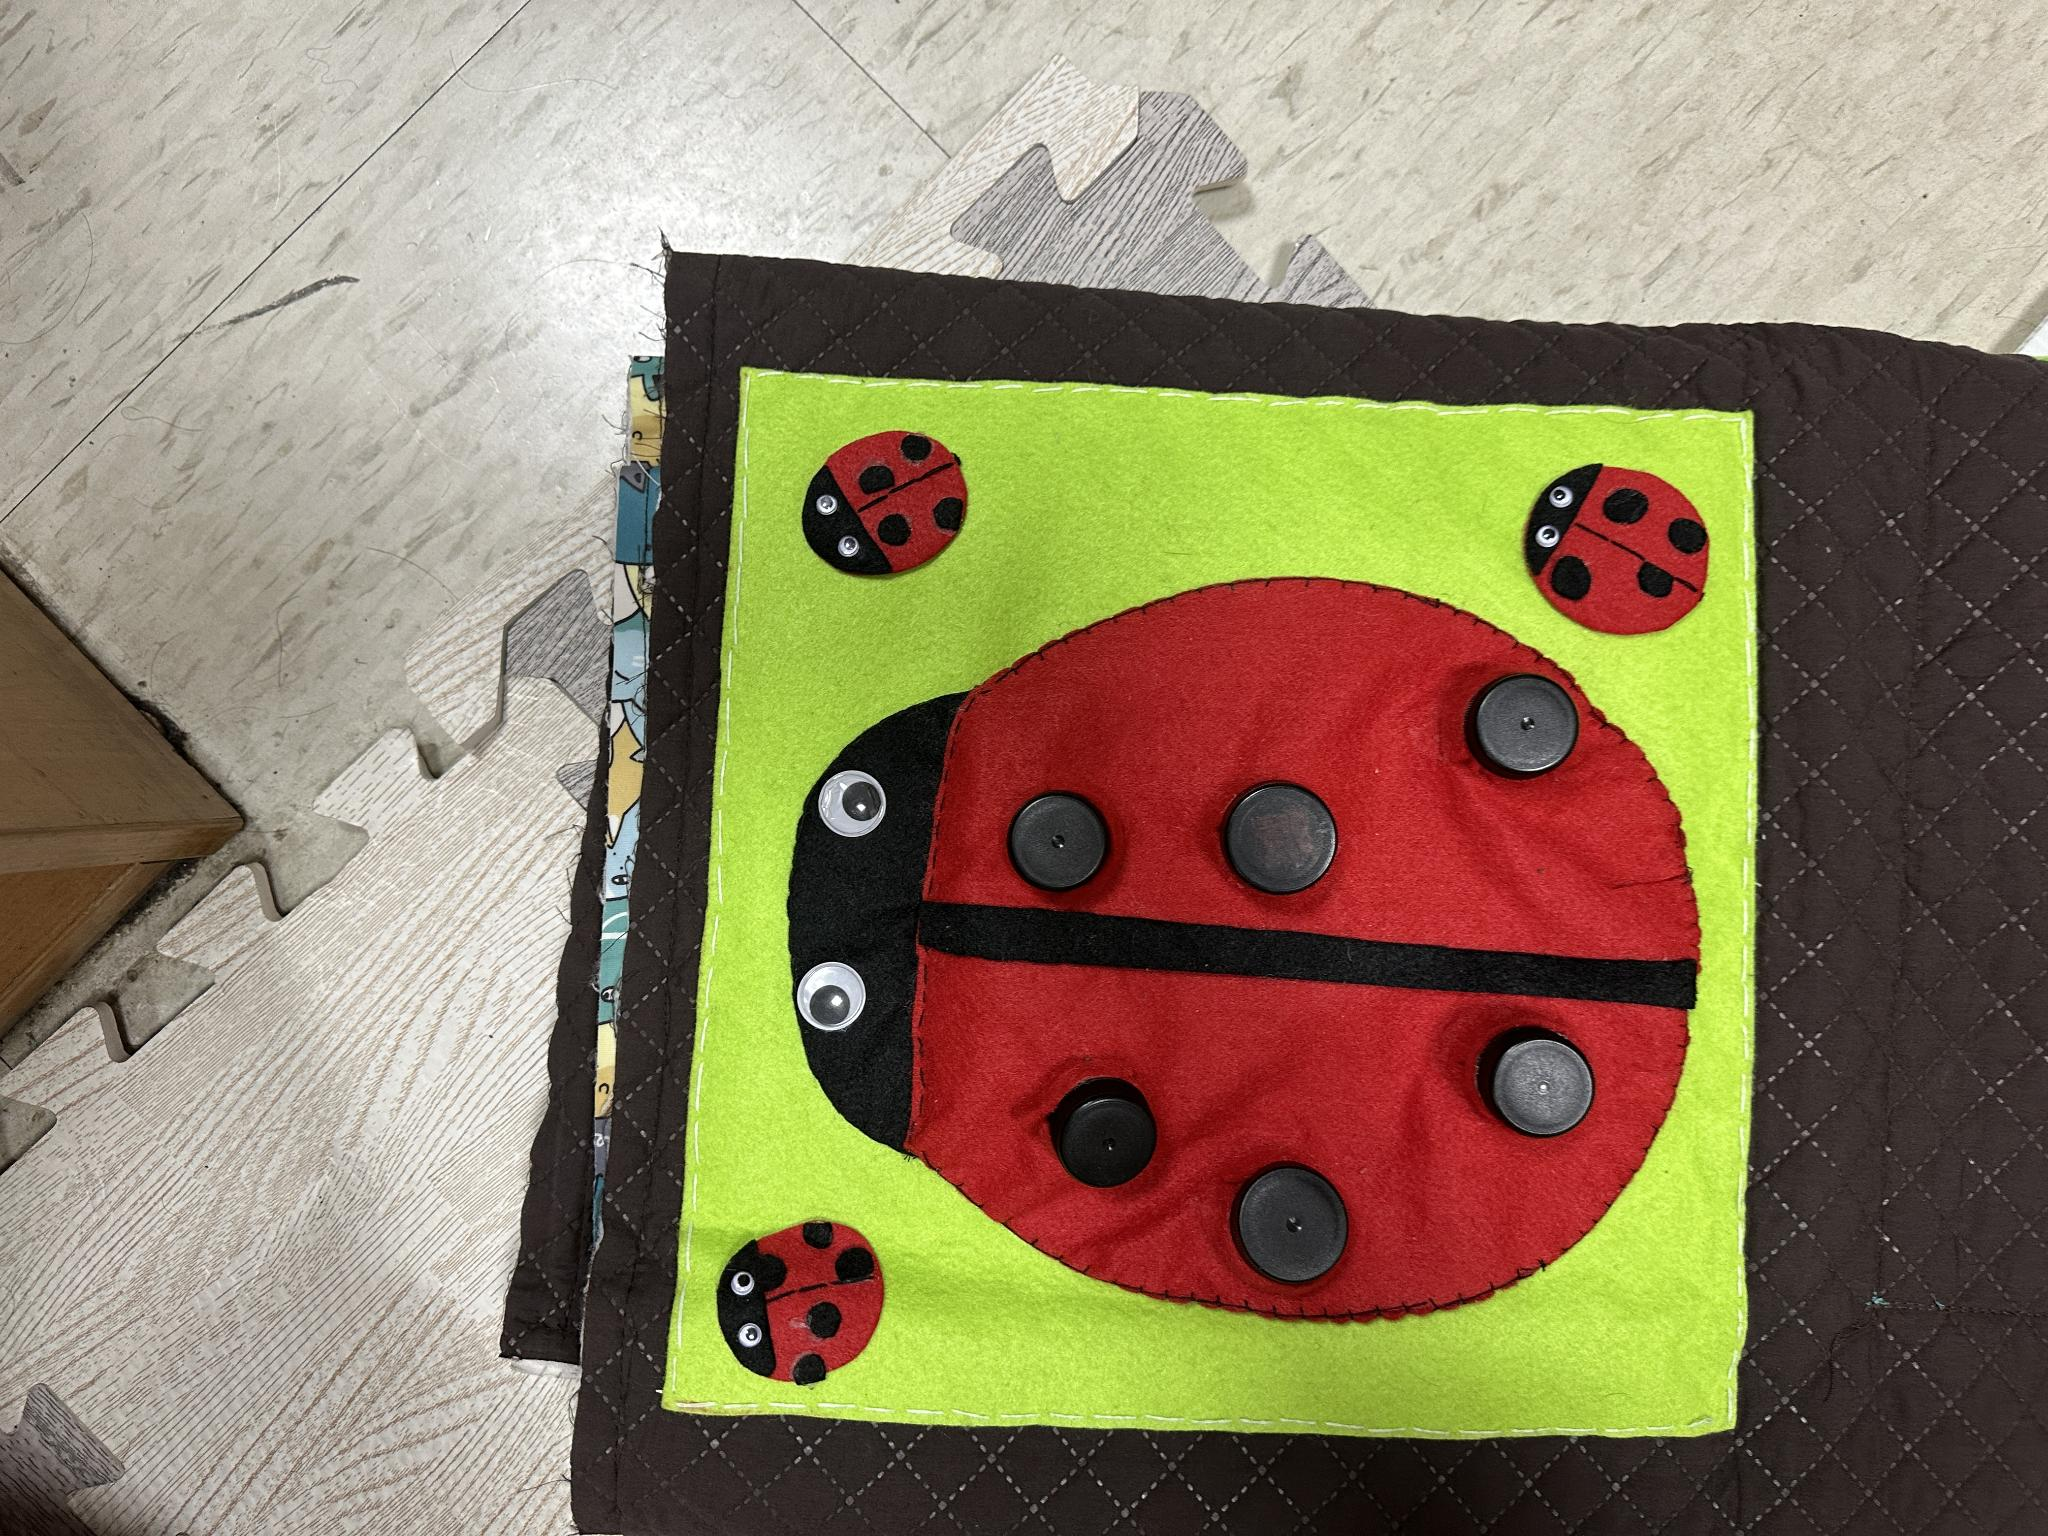cap_ok: (1211, 1121, 1377, 1312), (1029, 1042, 1187, 1210), (1464, 997, 1629, 1157), (1195, 763, 1359, 913), (997, 773, 1148, 907), (1461, 665, 1596, 791)
